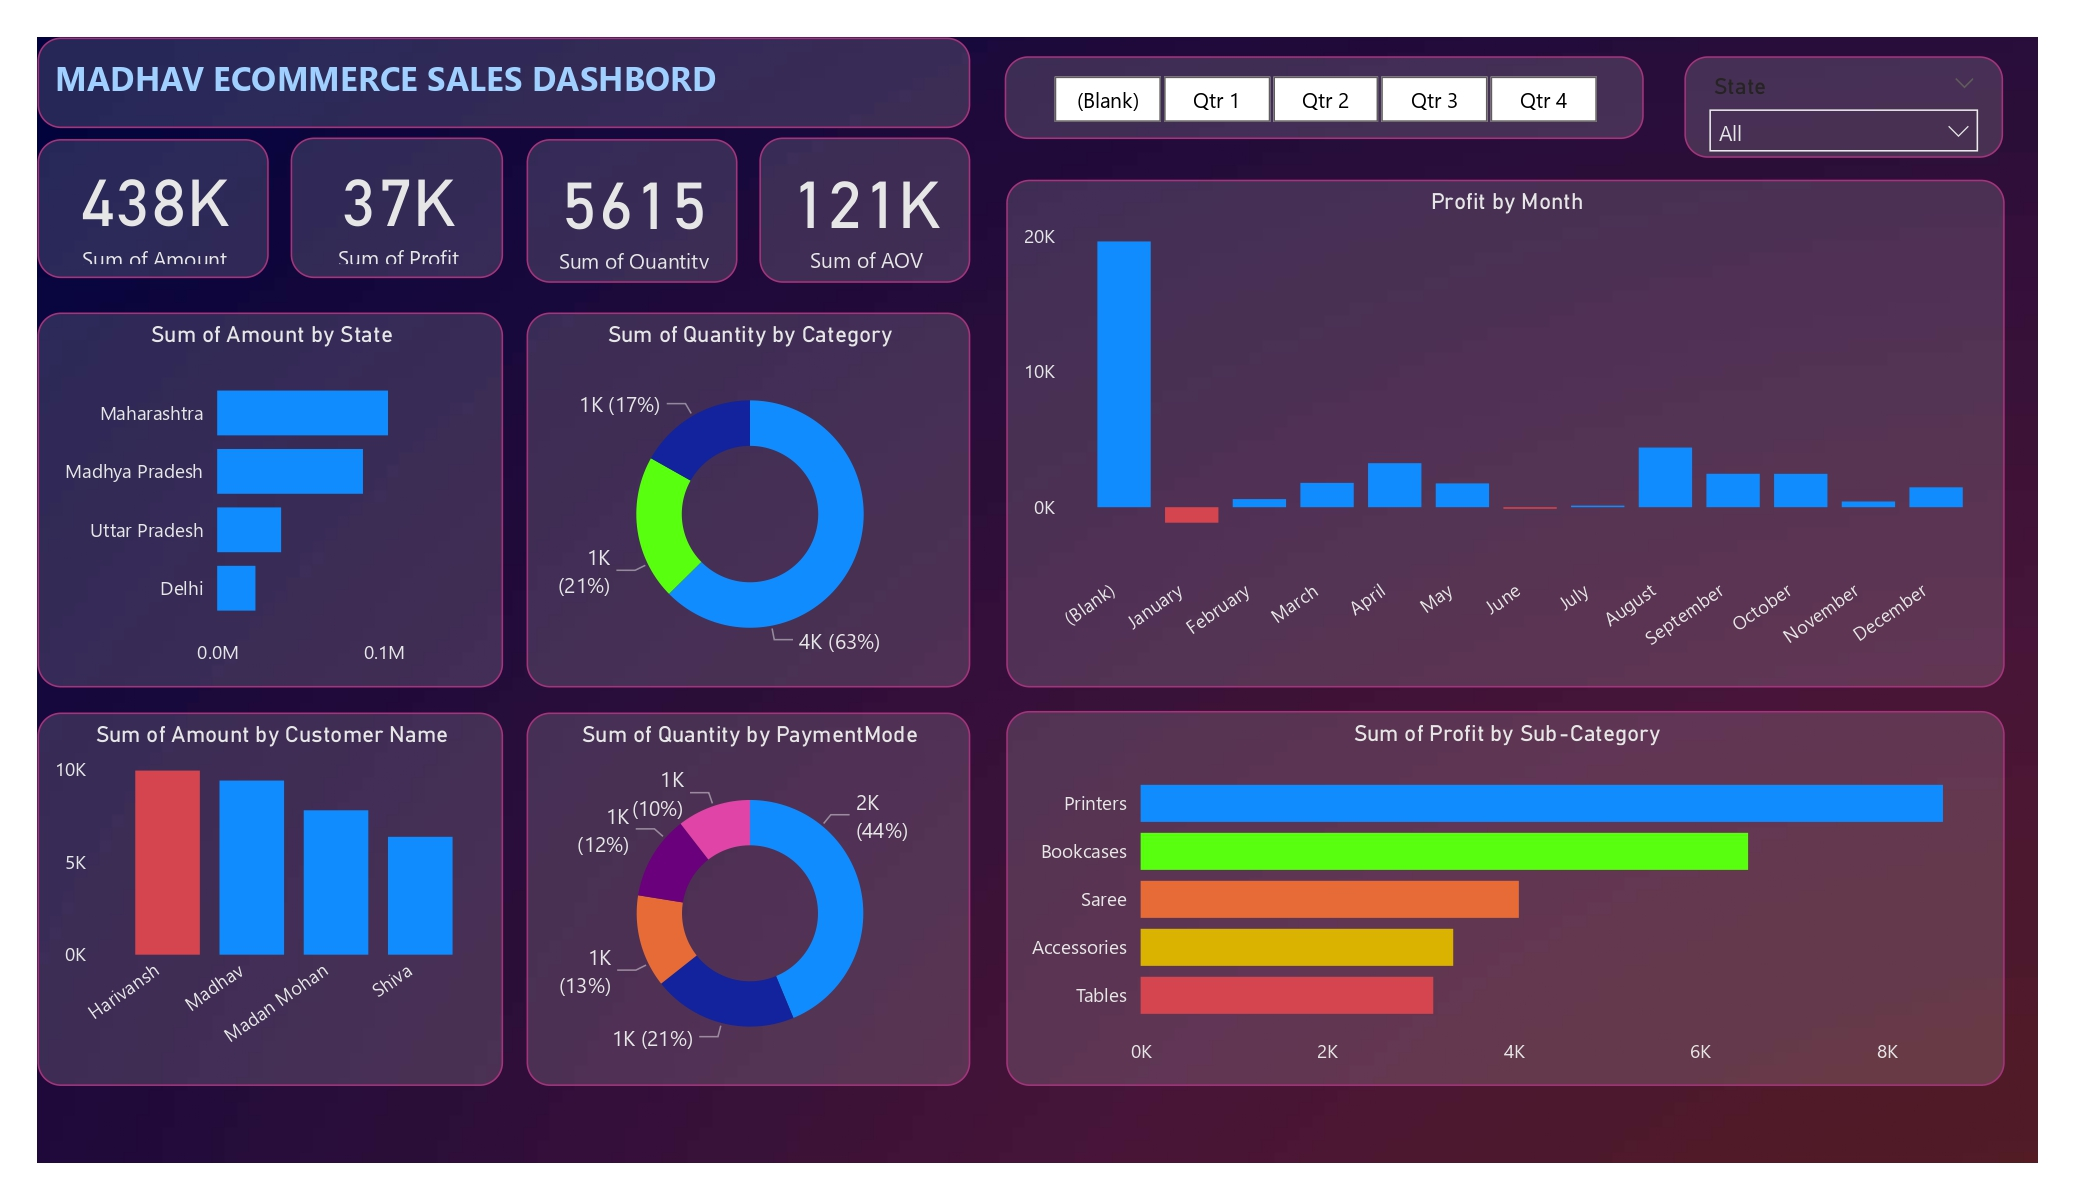

The dashboard page shown, as its layout file describes it:
{"tool":"powerbi","page":{"name":"Page 1","canvas":[1280,720],"ordinal":0},"visuals":[{"type":"textbox","box":[0,0,596.6,57.5],"z":0},{"type":"columnChart","title":"Profit by Month","fields":{"Y":["Details.Profit"],"Category":["Orders.Order Date.Variation.Date Hierarchy.Month"]},"box":[619.8,90.7,638.7,325],"z":1000},{"type":"barChart","fields":{"Category":["Details.Sub-Category"],"Y":["Details.Profit"]},"box":[619.8,430.9,638.7,240],"z":2000},{"type":"donutChart","fields":{"Category":["Details.Category"],"Y":["Details.Quantity"]},"box":[313.4,175.6,283.2,240.8],"z":3000},{"type":"donutChart","fields":{"Y":["Details.Quantity"],"Category":["Details.PaymentMode"]},"box":[313.4,431.5,283.2,239.2],"z":4000},{"type":"card","fields":{"Values":["Details.Amount"]},"box":[0,65.1,148.4,89.3],"z":4001},{"type":"card","fields":{"Values":["Details.Quantity"]},"box":[313.4,65.1,134.8,92.4],"z":4002},{"type":"card","fields":{"Values":["Details.Profit"]},"box":[162,63.6,136.3,90.9],"z":4003},{"type":"card","fields":{"Values":["Details.AOV"]},"box":[461.8,63.6,134.8,93.9],"z":4004},{"type":"barChart","fields":{"Category":["Orders.State"],"Y":["Details.Amount"]},"box":[0,175.6,298.3,240.8],"z":4005},{"type":"columnChart","fields":{"Category":["Orders.Customer Name"],"Y":["Details.Amount"]},"box":[0,431.5,298.3,239.2],"z":4006},{"type":"slicer","fields":{"Values":["Orders.Order Date.Variation.Date Hierarchy.Quarter"]},"box":[619.3,12.1,408.8,53],"z":4007},{"type":"slicer","fields":{"Values":["Orders.State"]},"box":[1053.9,12.1,204.4,65.1],"z":4008}]}

Visuals, with their boxes on the page's 1280x720 design canvas (x1, y1, x2, y2). These are canvas units, not pixel positions in the 2075x1200 screenshot, which may show the page scaled, cropped or inside an application window:
textbox: 0:0:597:58
"Profit by Month" columnChart: 620:91:1258:416
barChart - Details.Sub-Category x Details.Profit: 620:431:1258:671
donutChart - Details.Category x Details.Quantity: 313:176:597:416
donutChart - Details.Quantity x Details.PaymentMode: 313:432:597:671
card - Details.Amount: 0:65:148:154
card - Details.Quantity: 313:65:448:158
card - Details.Profit: 162:64:298:154
card - Details.AOV: 462:64:597:158
barChart - Orders.State x Details.Amount: 0:176:298:416
columnChart - Orders.Customer Name x Details.Amount: 0:432:298:671
slicer - Orders.Order Date.Variation.Date Hierarchy.Quarter: 619:12:1028:65
slicer - Orders.State: 1054:12:1258:77
